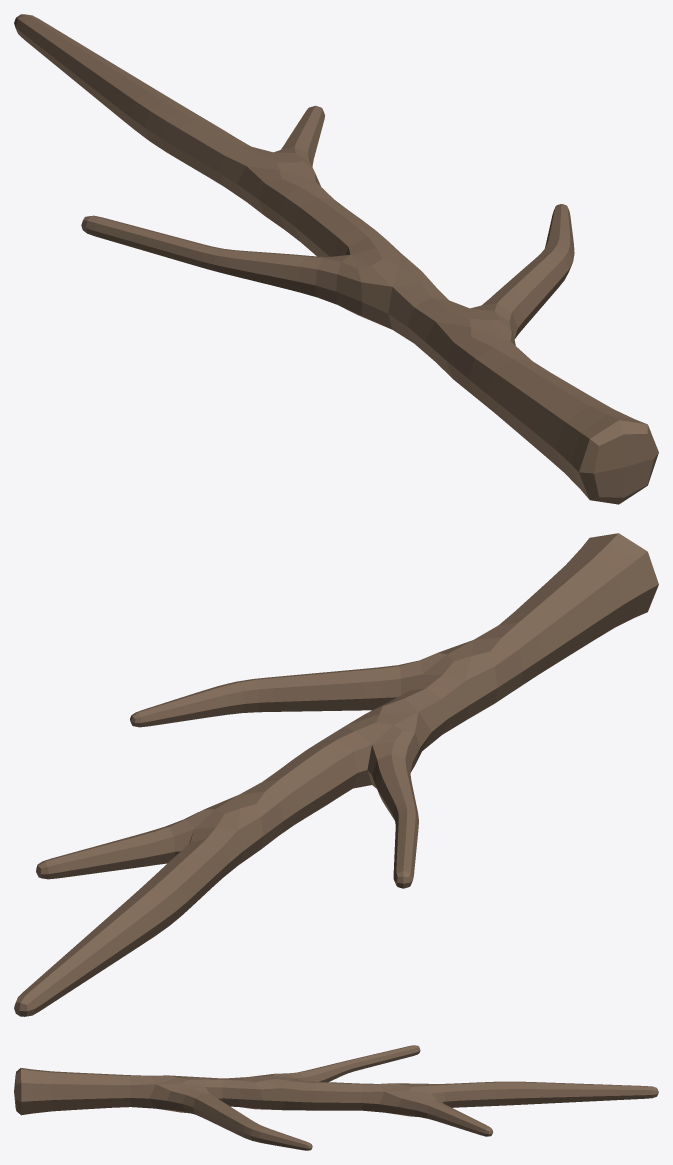
File: branch_02.fbx
3 renders of one model, top to bottom at view 1: azimuth 30°, elevation 25°; view 2: azimuth 150°, elevation 25°; view 3: azimuth 270°, elevation 25°, orthographic. The views are drawn at different scales.
Parts seen in each view (by area): view 1: branch_02; view 2: branch_02; view 3: branch_02.
Boxes of the visible parts, left/top/right/bottom form: branch_02: left=14, top=14, right=658, bottom=504; branch_02: left=14, top=533, right=658, bottom=1016; branch_02: left=14, top=1045, right=658, bottom=1150.
Size of the model in its own units: 47.61 by 10 by 131.
